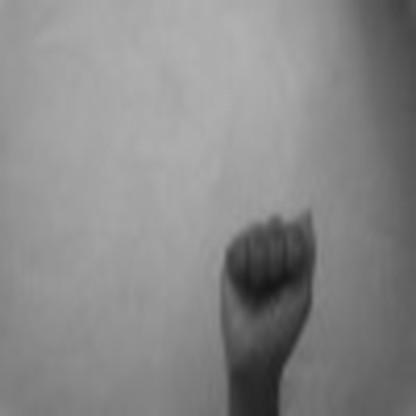a: (216, 188, 318, 365)
